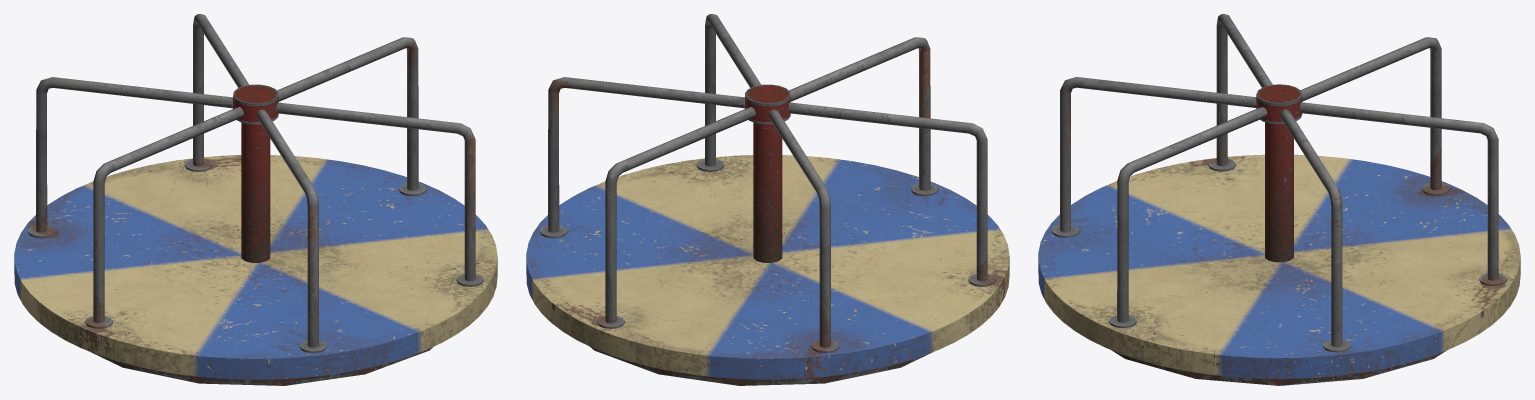
Rendered from Location_community_park_01_20-23.obj.
The picture shows the model from 3 angles, left to right: view 1: azimuth 30°, elevation 25°; view 2: azimuth 150°, elevation 25°; view 3: azimuth 270°, elevation 25°; orthographic projection.
Visible parts, largest first — view 1: Location_community_park_01_20-23; view 2: Location_community_park_01_20-23; view 3: Location_community_park_01_20-23.
Boxes of the visible parts, x1,y1,x2,y2 form: Location_community_park_01_20-23: (14, 14, 497, 385); Location_community_park_01_20-23: (526, 14, 1009, 385); Location_community_park_01_20-23: (1038, 14, 1520, 385).
Size of the model in its own units: 2.1 by 0.96 by 2.1.
